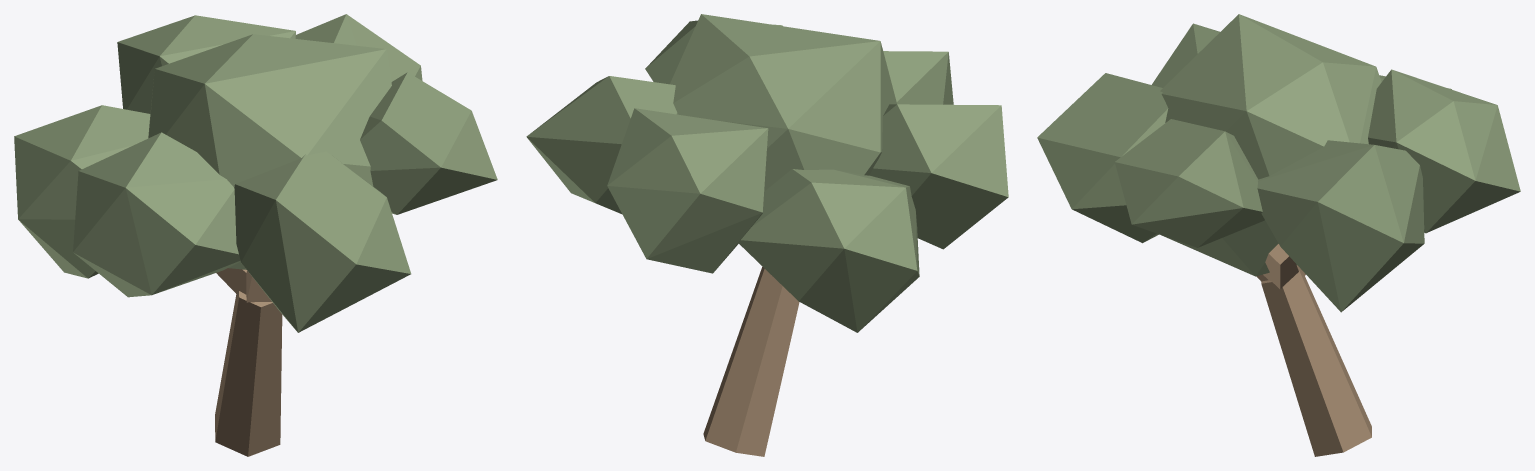
Rendered from tree_genolive2.glb.
3 renders of one model, left to right at view 1: azimuth 30°, elevation 25°; view 2: azimuth 150°, elevation 25°; view 3: azimuth 270°, elevation 25°, orthographic. The views are drawn at different scales.
Parts seen in each view (by area): view 1: hull; view 2: hull; view 3: hull.
Part boxes in pixels (bbox=[...]): hull: bbox=[14, 14, 497, 456]; hull: bbox=[526, 14, 1008, 456]; hull: bbox=[1037, 14, 1520, 456].
Size of the model in its own units: 4.18 by 4.02 by 4.47.
